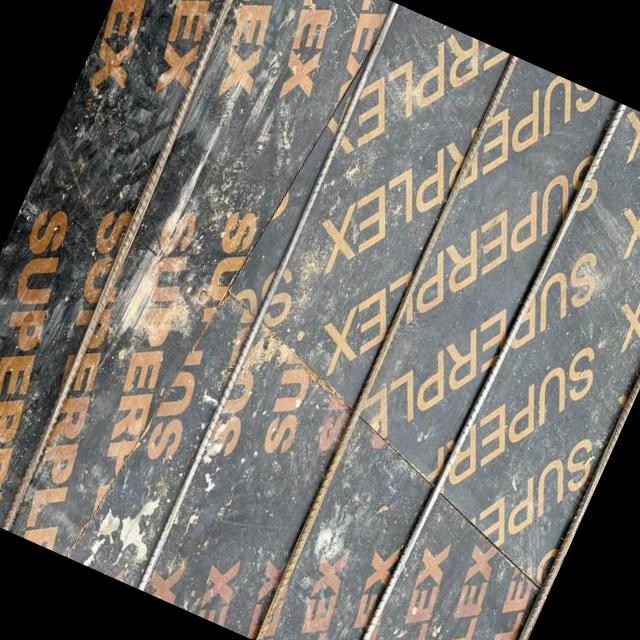ribbed bar: (132, 2, 404, 591), (249, 54, 522, 640), (340, 94, 627, 640), (0, 0, 269, 531), (469, 152, 640, 640)
